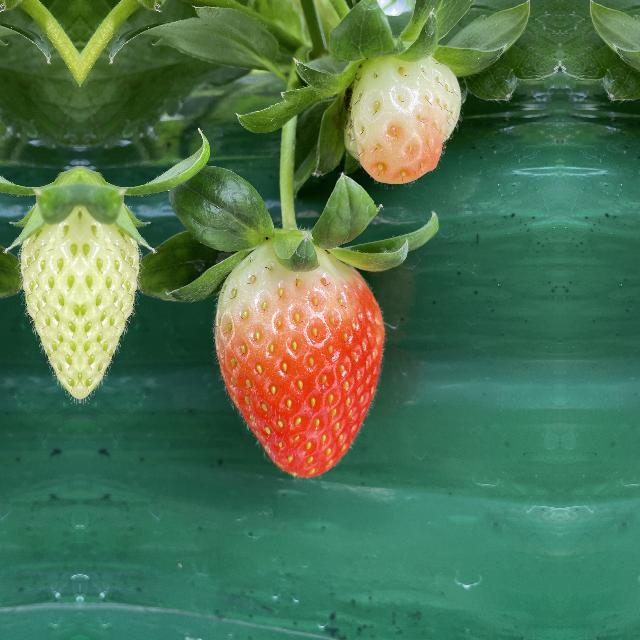Health_100: (208, 242, 394, 476)
Health_25: (80, 176, 142, 400), (18, 176, 80, 400)
Health_50: (346, 28, 460, 182)
